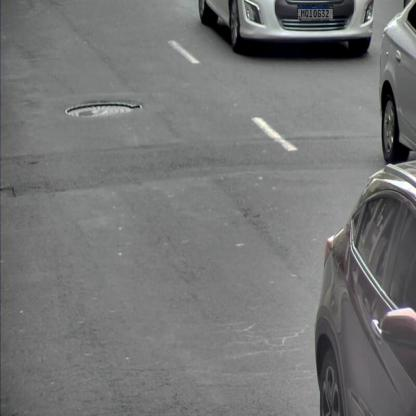PlacaM: (298, 5, 334, 19)
